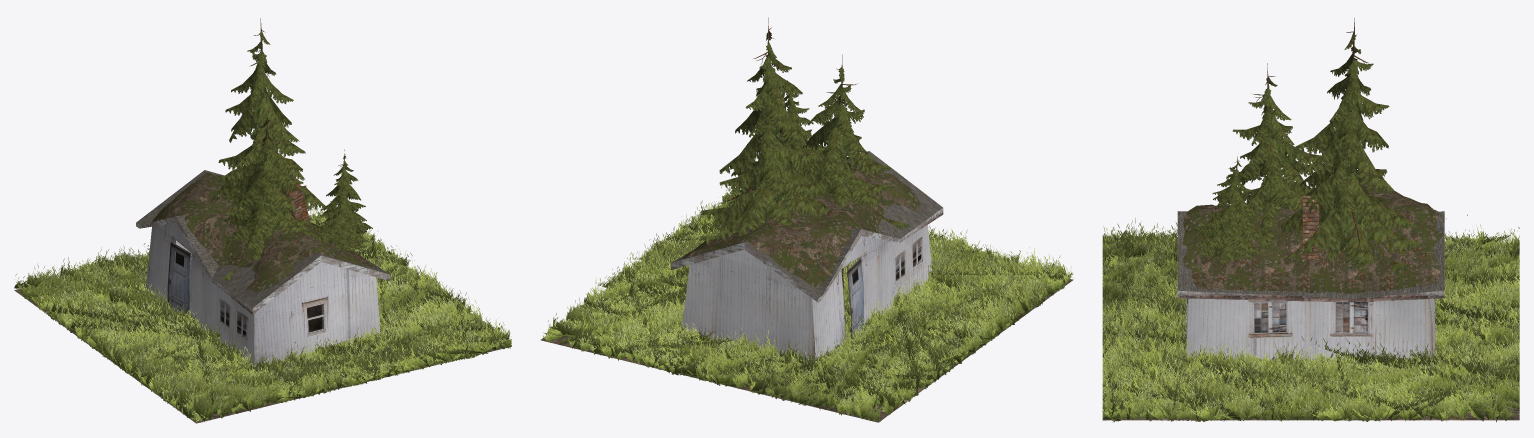
The model's file is ahouse.gltf.
3 renders of one model, left to right at view 1: azimuth 30°, elevation 25°; view 2: azimuth 150°, elevation 25°; view 3: azimuth 270°, elevation 25°, orthographic. The views are drawn at different scales.
Visible parts, largest first — view 1: object 2, object 9, moss, leaf_2, leaf_3, object 13, leaf, object 12, object 10, object 1, object 11; view 2: object 2, object 9, leaf_2, moss, leaf_3, object 13, object 12, object 1, object 10, leaf; view 3: object 2, object 9, moss, leaf_2, leaf_3, leaf, object 13, object 12, object 1, object 11.
Part boxes in pixels (box(x1,y1,x2,y2)): object 2: box(14, 206, 511, 422); object 9: box(145, 222, 379, 366); moss: box(152, 172, 376, 292); leaf_2: box(211, 30, 326, 230); leaf_3: box(222, 119, 316, 282); object 13: box(136, 170, 389, 307); leaf: box(309, 155, 372, 251); object 12: box(136, 216, 389, 314); object 10: box(167, 242, 191, 315); object 1: box(14, 217, 509, 423); object 11: box(282, 177, 311, 225); object 2: box(543, 183, 1073, 421); object 9: box(681, 224, 931, 363); leaf_2: box(700, 30, 828, 244); moss: box(683, 157, 920, 287); leaf_3: box(793, 68, 909, 267); object 13: box(671, 151, 942, 298); object 12: box(670, 208, 943, 302); object 1: box(540, 279, 1073, 422); object 10: box(847, 256, 863, 342); leaf: box(778, 94, 825, 173); object 2: box(1102, 214, 1519, 422); object 9: box(1186, 298, 1435, 363); moss: box(1183, 182, 1443, 293); leaf_2: box(1281, 32, 1422, 275); leaf_3: box(1227, 77, 1320, 248); leaf: box(1192, 160, 1264, 264); object 13: box(1177, 178, 1444, 298); object 12: box(1177, 290, 1444, 302); object 1: box(1103, 261, 1519, 420); object 11: box(1302, 195, 1319, 261).
Size of the model in its own units: 10.02 by 8.77 by 10.01.
Materials: 7 (7 with a texture image).
